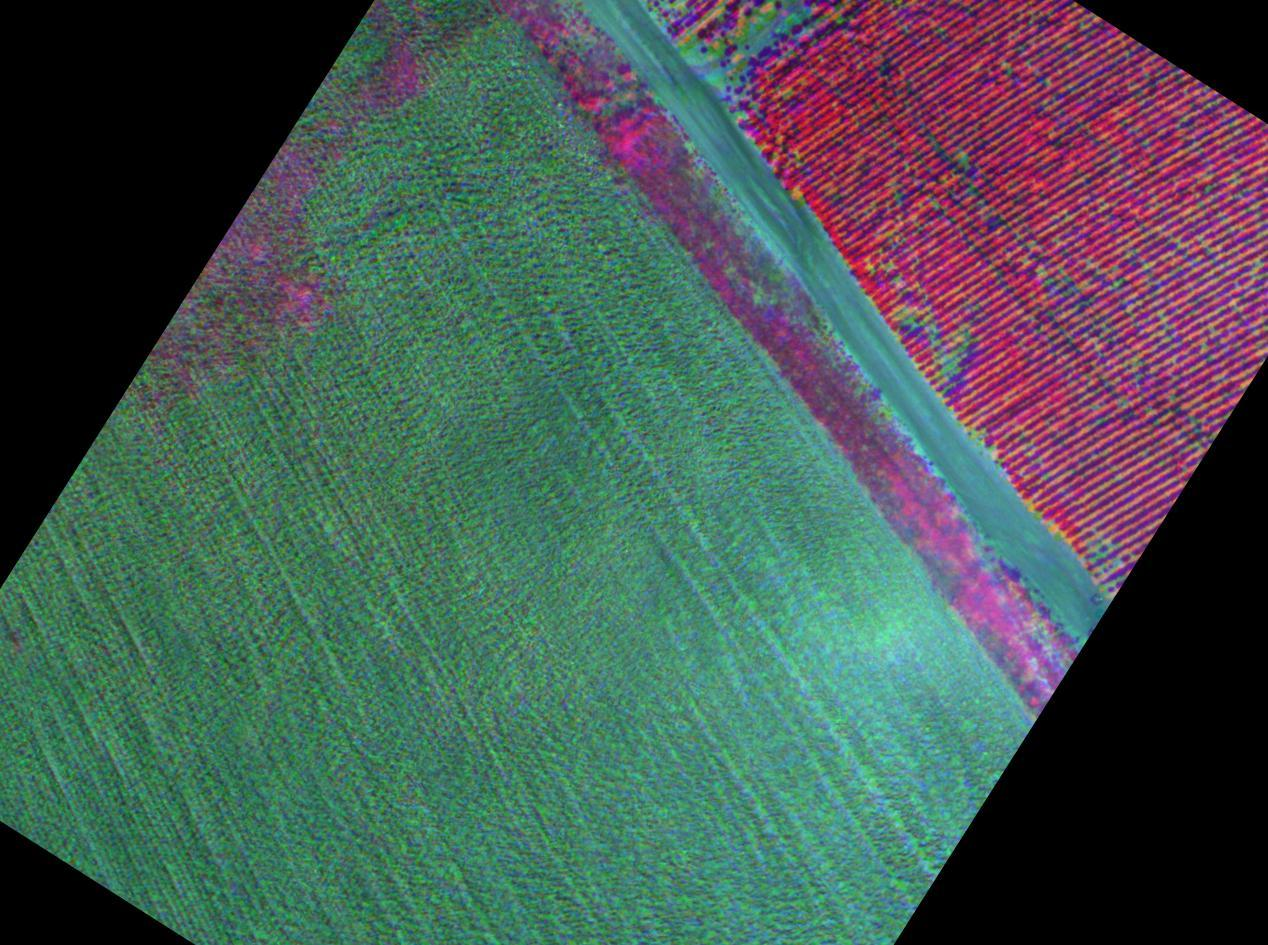dc: (759, 19, 765, 26), (689, 44, 694, 50), (946, 365, 950, 370), (717, 71, 721, 76), (1100, 553, 1104, 557), (990, 448, 993, 451)
